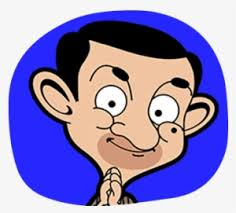mrbean: (27, 20, 221, 207)
